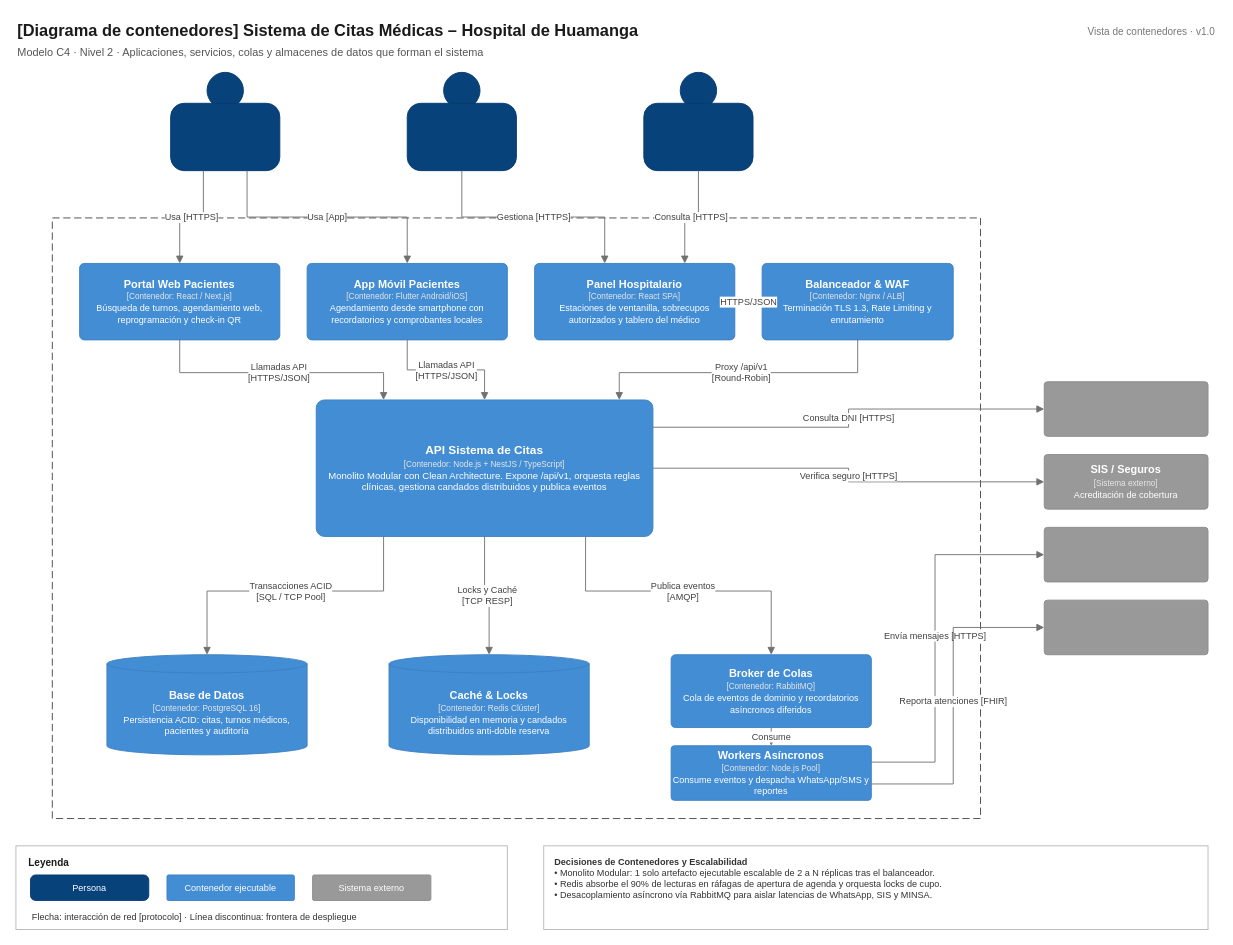
Image size: 1233x945. Some labels were removed from this diagram. The shapes that lost their labels are listed below. From the top down, each one's box as (x1, y1, x2, y2) in pixels, then its label:
(170, 102, 280, 171): Paciente [Persona] Reserva citas y hace check-in
(406, 102, 516, 171): Admisión [Persona] Ventanilla y sobrecupos
(643, 102, 753, 171): Médico [Persona] Consulta agenda y atención
(1043, 381, 1208, 436): RENIEC [Sistema externo] Validación DNI
(51, 217, 981, 819): Sistema de Citas Médicas [Sistema de software · Hospital de Huamanga]
(1043, 526, 1208, 582): WhatsApp / SMS [Sistema externo] Pasarela de notificaciones
(1043, 599, 1208, 655): HIS MINSA [Sistema externo] Reportes HL7 FHIR
